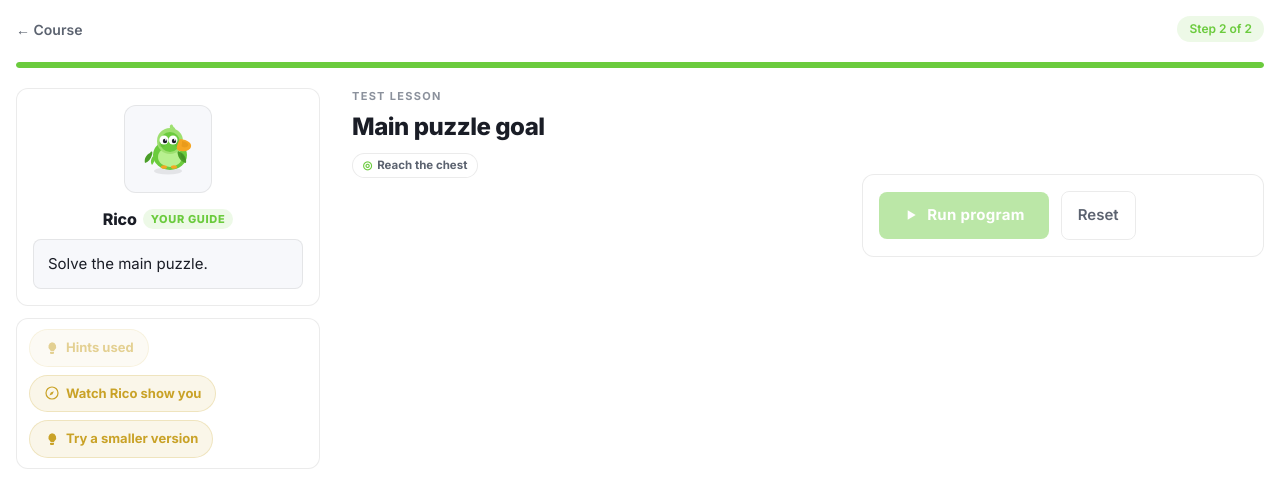
Test: LessonPage smaller variant on resume › warms the variant and opens it on click after resuming mid-lesson
Expected: the text "Solve the main puzzle." is shown, [48, 254, 208, 273]
# No hints on this step, so "Try a smaller version" is available immediately.
Step 1. Click the button "Try a smaller version" → (121, 439), box [29, 420, 213, 458]
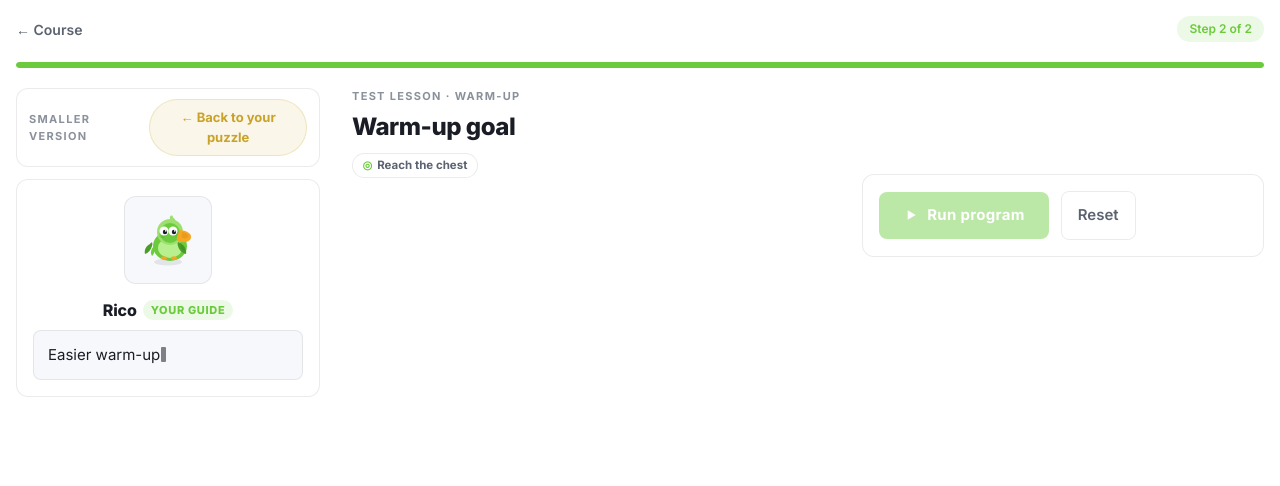
Result: the heading "Warm-up goal" is shown at [352, 112, 515, 140]
